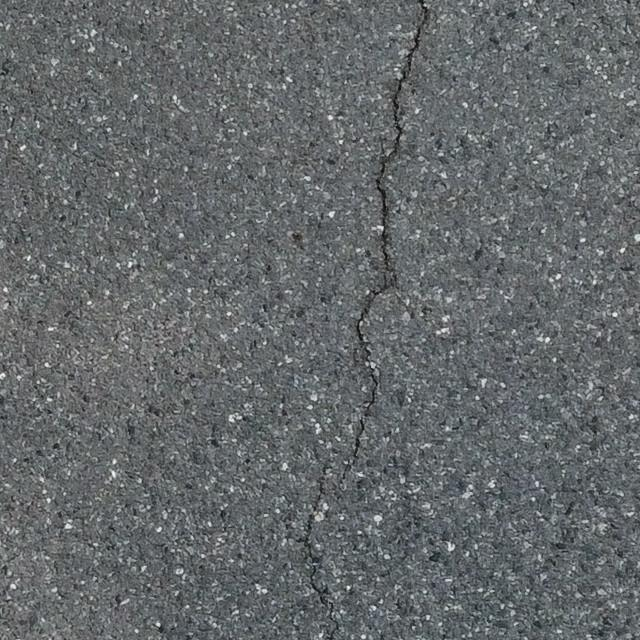LongitudinalCrack: (301, 1, 432, 640)
